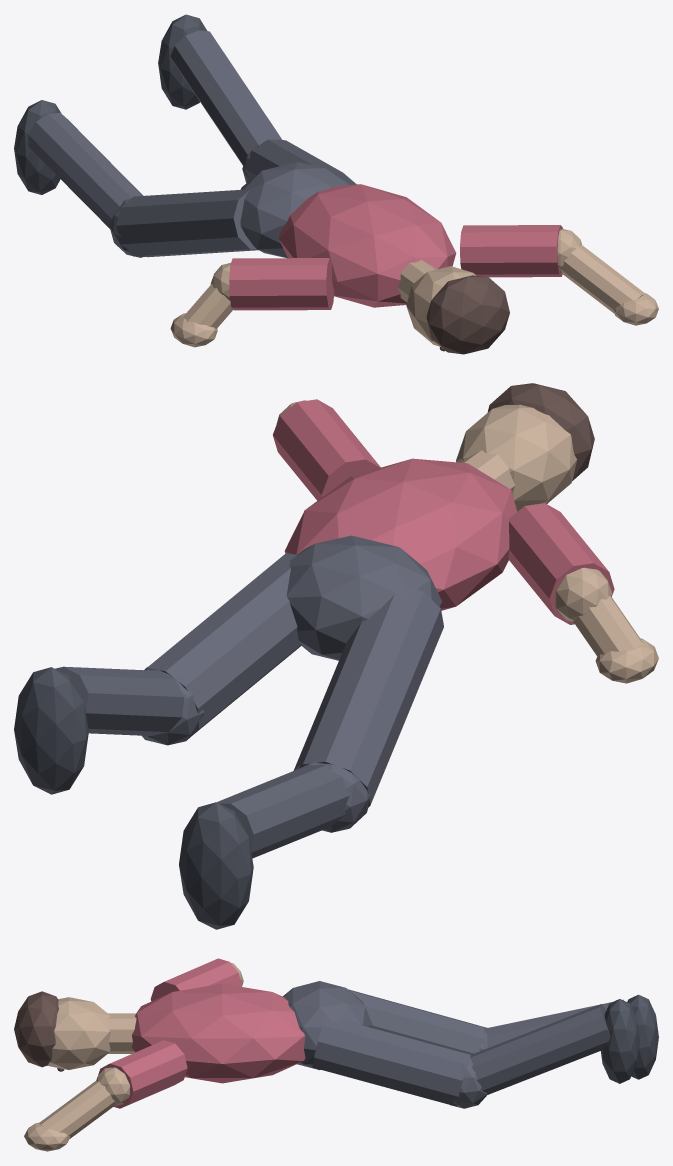
3 renders of one model, top to bottom at view 1: azimuth 30°, elevation 25°; view 2: azimuth 150°, elevation 25°; view 3: azimuth 270°, elevation 25°, orthographic. The views are drawn at different scales.
Parts seen in each view (by area): view 1: world; view 2: world; view 3: world.
Part boxes in pixels (bbox=[...]): world: bbox=[14, 14, 658, 354]; world: bbox=[14, 383, 658, 929]; world: bbox=[14, 958, 658, 1151].
Bounding box in the file's own units: 1.25 × 0.4905 × 2.06.
